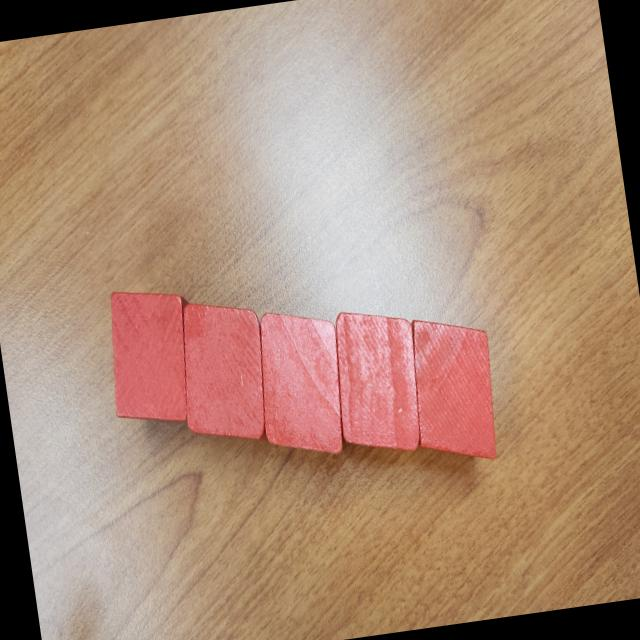red: (248, 304, 354, 466), (324, 302, 432, 461), (402, 308, 506, 470), (171, 294, 277, 450), (100, 282, 206, 431)
